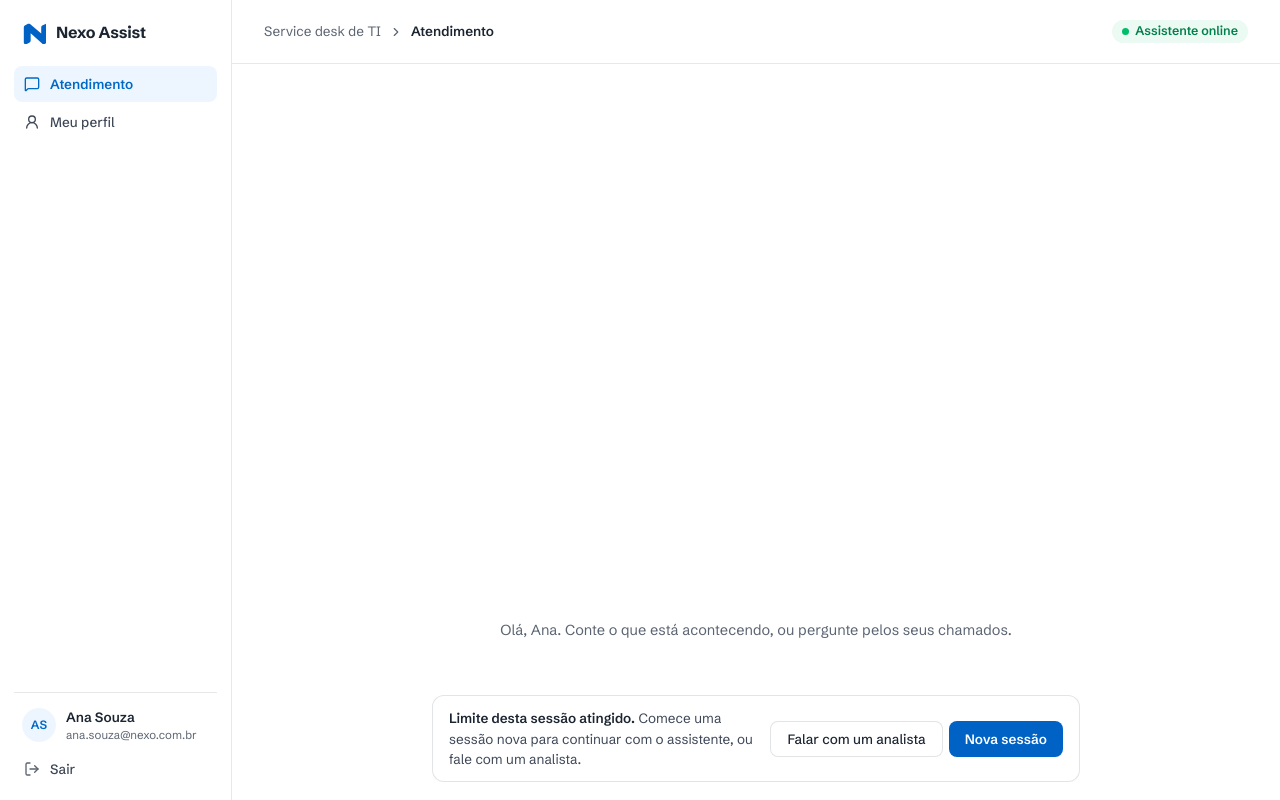
Scenario: tela do chat (tela 2) › RN14: no limite, falar com um analista transfere e devolve o campo de mensagem
The image size is (1280, 800).
Click the button "Falar com um analista": x=857, y=739 [770,721,943,757]
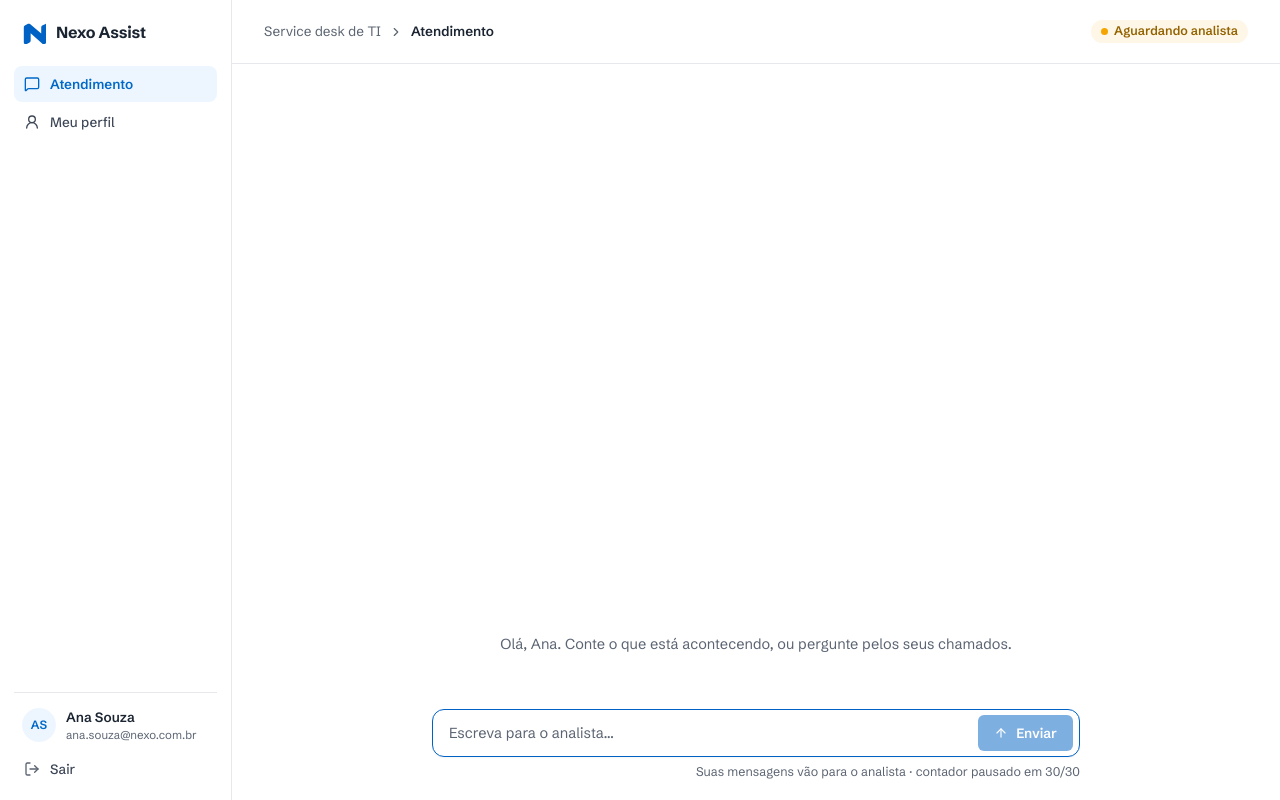
Result: the field named "Mensagem para o analista" is shown at [449,710,970,756]
Result: the text "Limite desta sessão atingido" is gone
